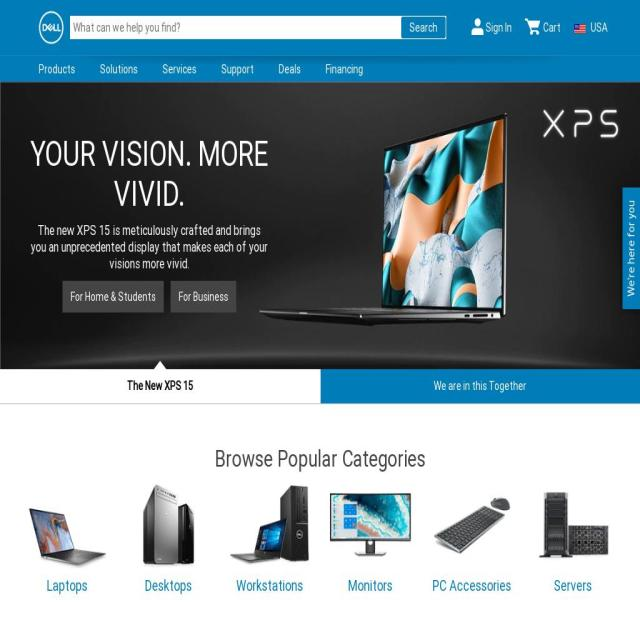button: (29, 134, 270, 272), (218, 480, 320, 602), (522, 480, 624, 602), (0, 368, 320, 404), (320, 368, 640, 404), (26, 480, 109, 595), (127, 480, 210, 595), (329, 480, 412, 595), (430, 480, 513, 595), (62, 280, 164, 312), (465, 0, 518, 55), (518, 0, 567, 55), (170, 280, 236, 312), (313, 56, 376, 82), (88, 56, 150, 82), (27, 56, 88, 82), (150, 56, 209, 82), (209, 56, 266, 82), (266, 56, 313, 82), (401, 17, 446, 38), (38, 11, 64, 47), (622, 187, 640, 211)
field: (70, 16, 446, 39)
heading: (29, 133, 270, 214), (0, 15, 640, 43), (17, 445, 623, 473), (29, 222, 270, 272), (26, 576, 109, 595), (127, 576, 210, 595), (228, 576, 311, 595), (329, 576, 412, 595), (430, 576, 513, 595), (532, 576, 614, 595)
iframe: (0, 0, 6, 640)
image: (0, 82, 640, 369), (26, 480, 109, 568), (127, 480, 210, 568), (228, 480, 311, 568), (329, 480, 412, 568), (430, 480, 513, 568), (532, 480, 614, 568), (38, 11, 64, 44), (524, 17, 540, 35), (471, 17, 484, 35), (574, 24, 586, 34)
text: (622, 200, 640, 297), (410, 21, 438, 34), (486, 21, 512, 34), (590, 21, 608, 36), (543, 21, 561, 34)
